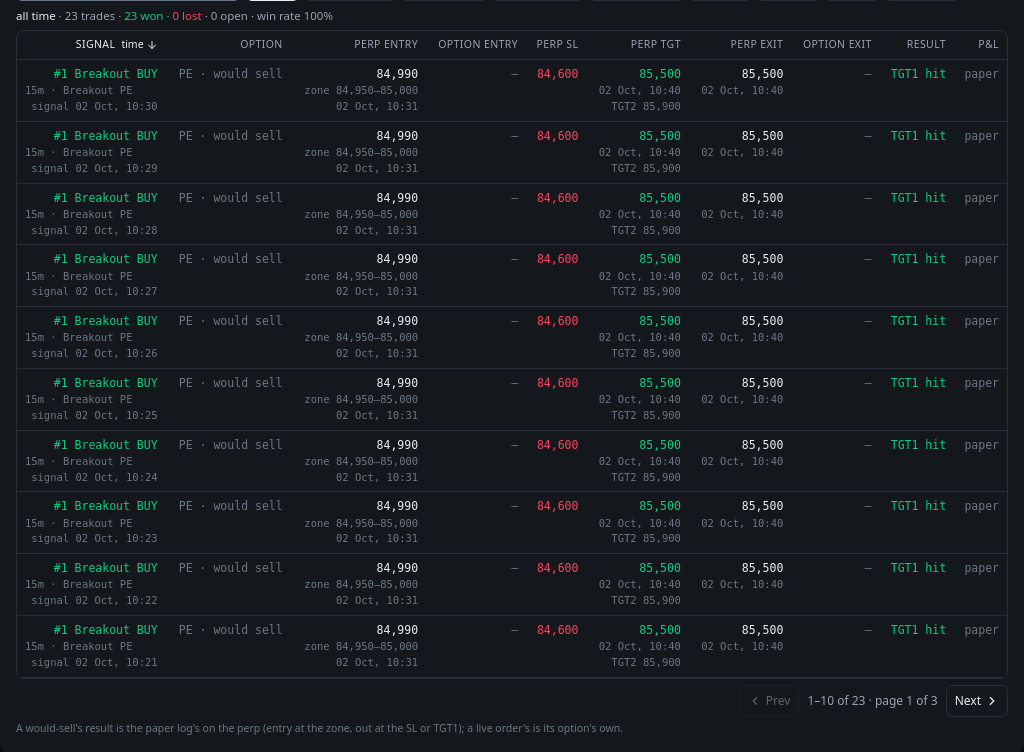
it: the signal trade history › [critical] ten to a page, with the way through them
(page scrolled)
Expected: the navigation bar named "trade history pages" shows "1–10 of 23 · page 1 of 3", [739,684,1008,716]
Expected: the button with aria-label "previous page" is disabled, [739,684,799,716]
Click the button with aria-label "next page".
click(977, 700)  # box [946,684,1008,716]
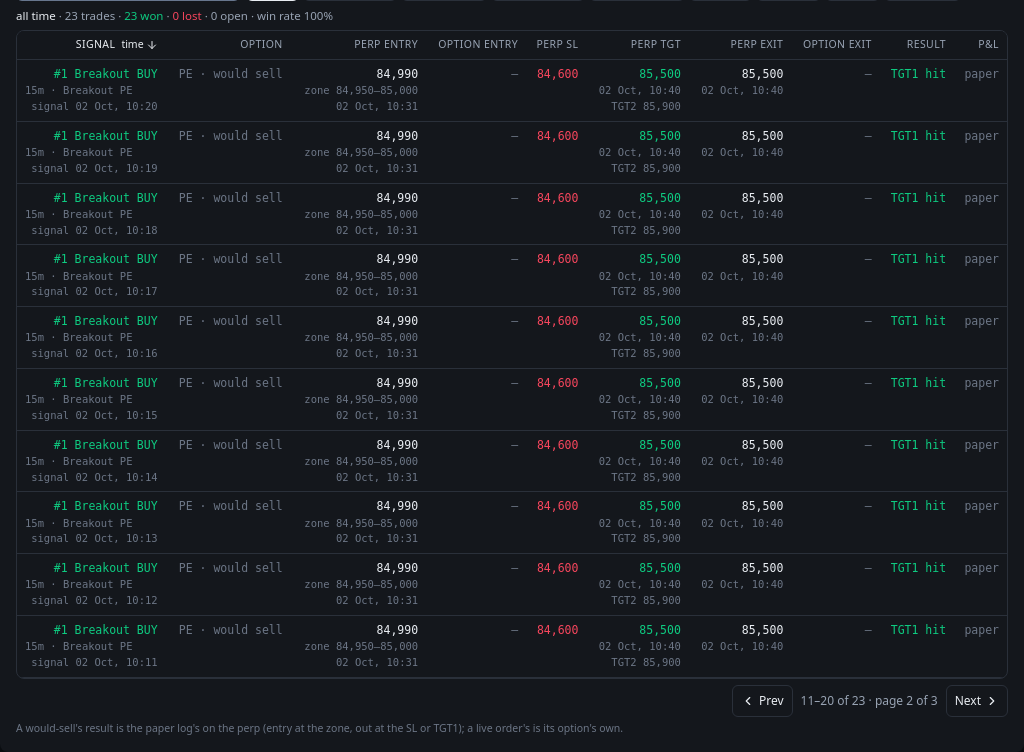
Click the button with aria-label "next page".
click(977, 700)  # box [946,684,1008,716]
(page scrolled)
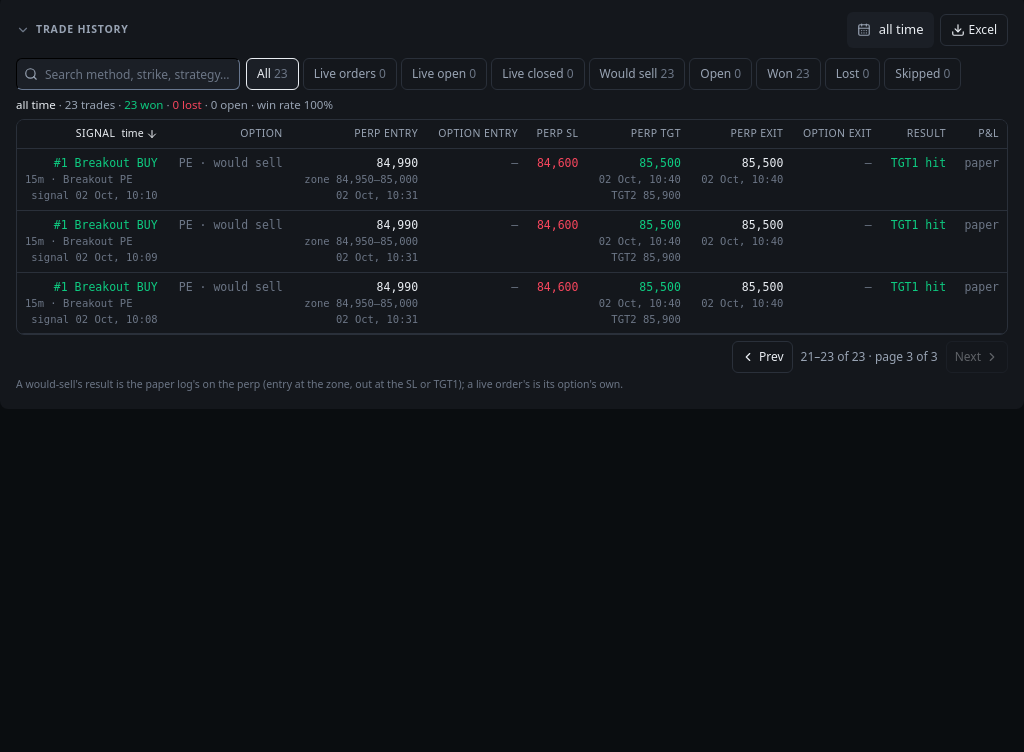
Expected: the element named "history totals" shows "23 trades · 23 won", [16,97,333,112]
Now the navigation bar named "trade history pages" shows "21–23 of 23 · page 3 of 3", box [732,341,1008,373]
Now the button with aria-label "next page" is disabled, box [946,341,1008,373]
Click the button "Would sell 23".
click(637, 74)  # box [588,58,685,90]
(page scrolled)
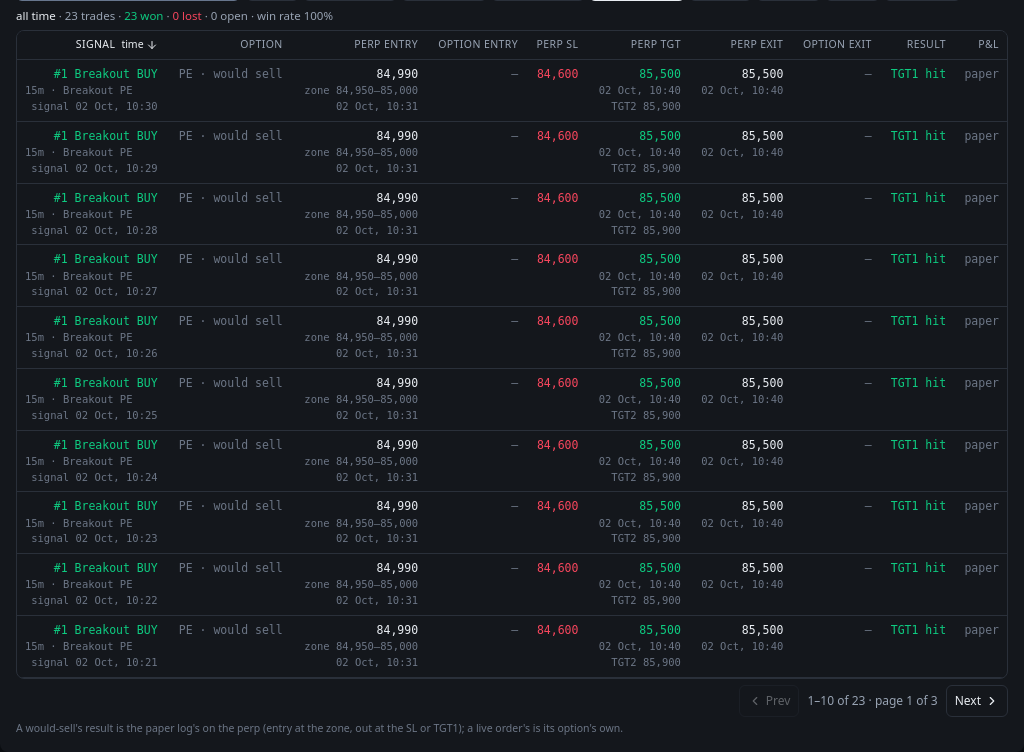
Now the navigation bar named "trade history pages" shows "page 1 of 3", box [739,684,1008,716]
